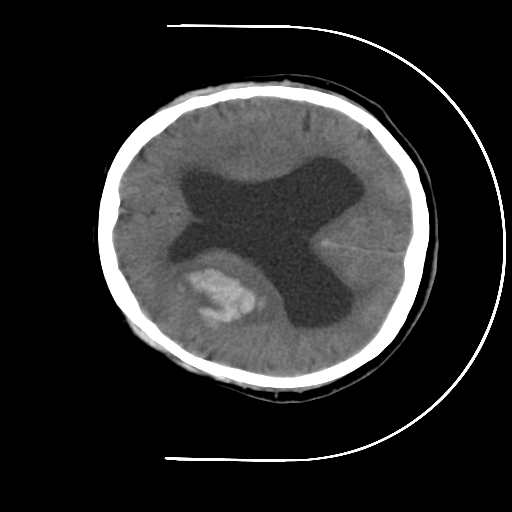a: (166, 252, 282, 342)
